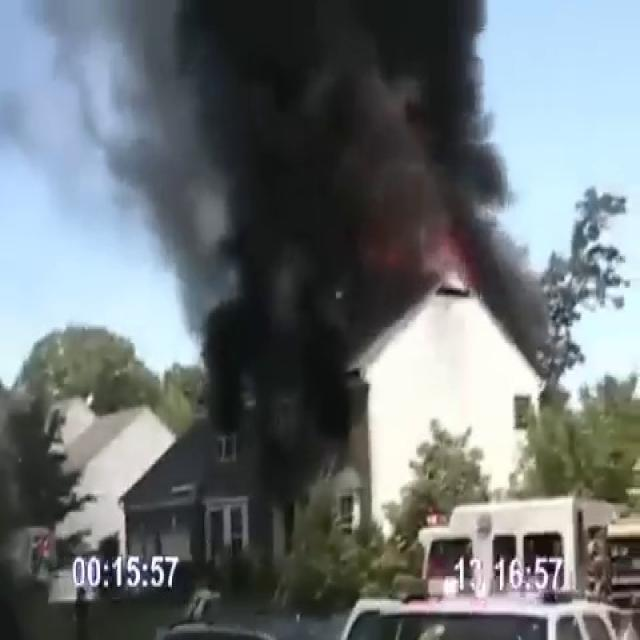Smoke: (39, 0, 548, 432)
